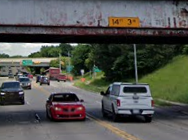1: (110, 18, 114, 25)
3: (126, 17, 133, 27)
4: (112, 17, 119, 27)
overheadsign: (107, 16, 140, 27)
